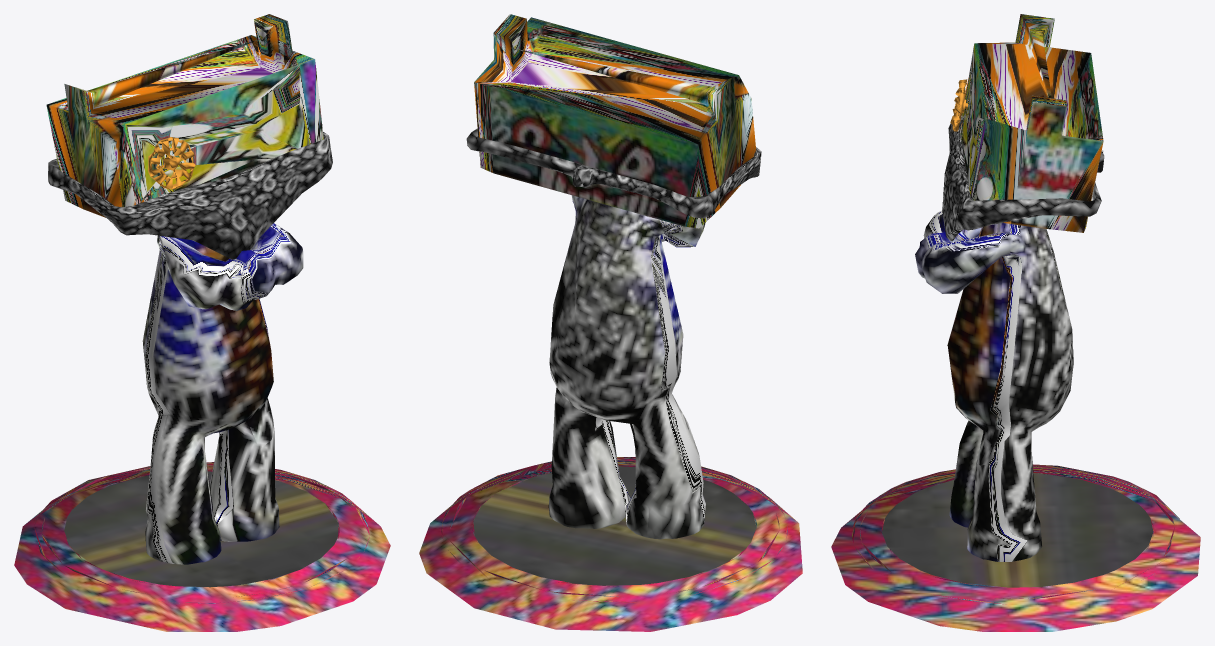
3 views of the same model, side by side, from view 1: azimuth 30°, elevation 25°; view 2: azimuth 150°, elevation 25°; view 3: azimuth 270°, elevation 25° (orthographic). The views are drawn at different scales.
Size of the model in its own units: 1.43 by 2.12 by 1.43.
6 materials, 6 textured.
